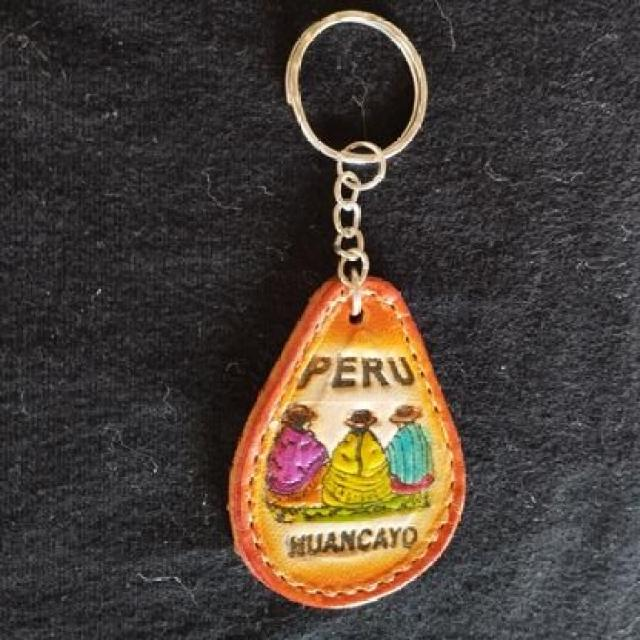Llavero: (226, 272, 468, 610)
